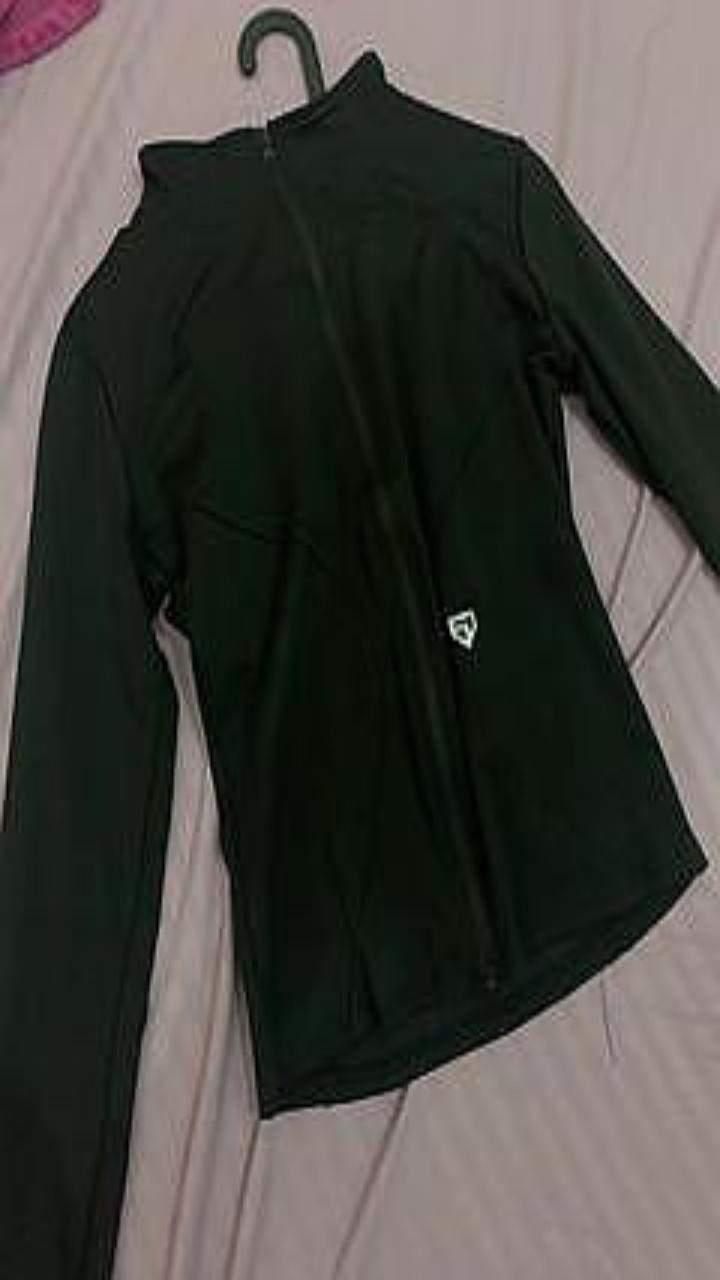Sports_Jacket: (0, 49, 719, 1279)
